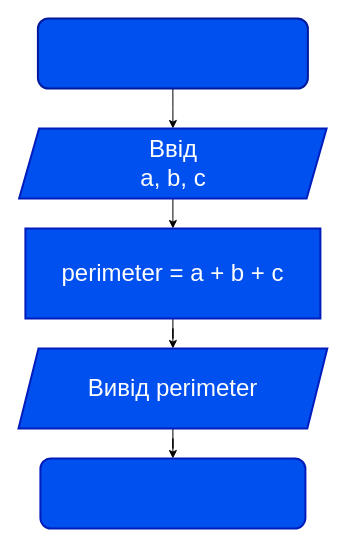
This 345x546 diagram has some shape labels left out. Each missing label, with the box of its shape:
Кінець: (39, 457, 306, 529)
Початок: (36, 17, 308, 89)
